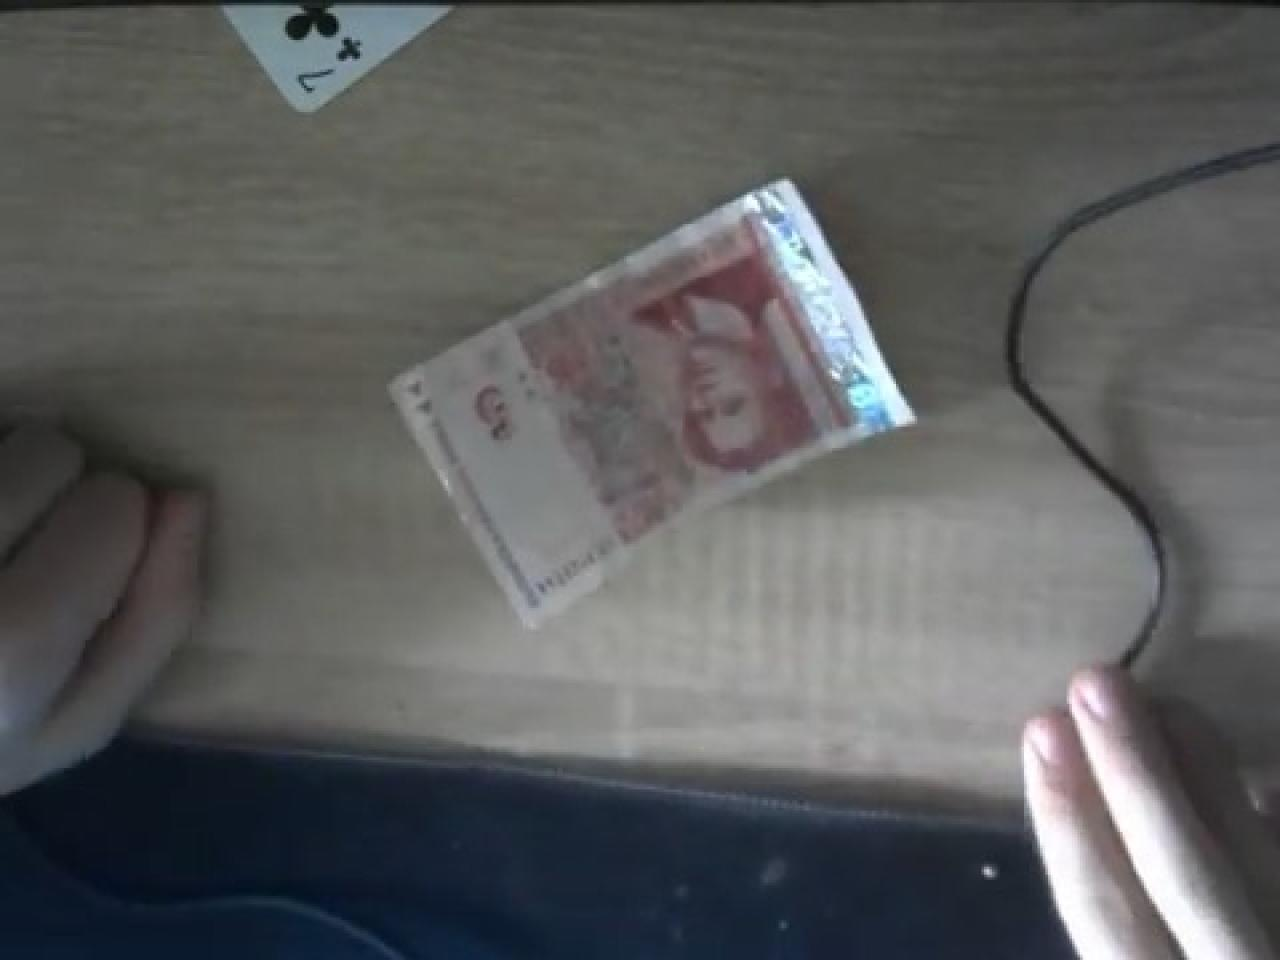5leva: (387, 176, 917, 626)
